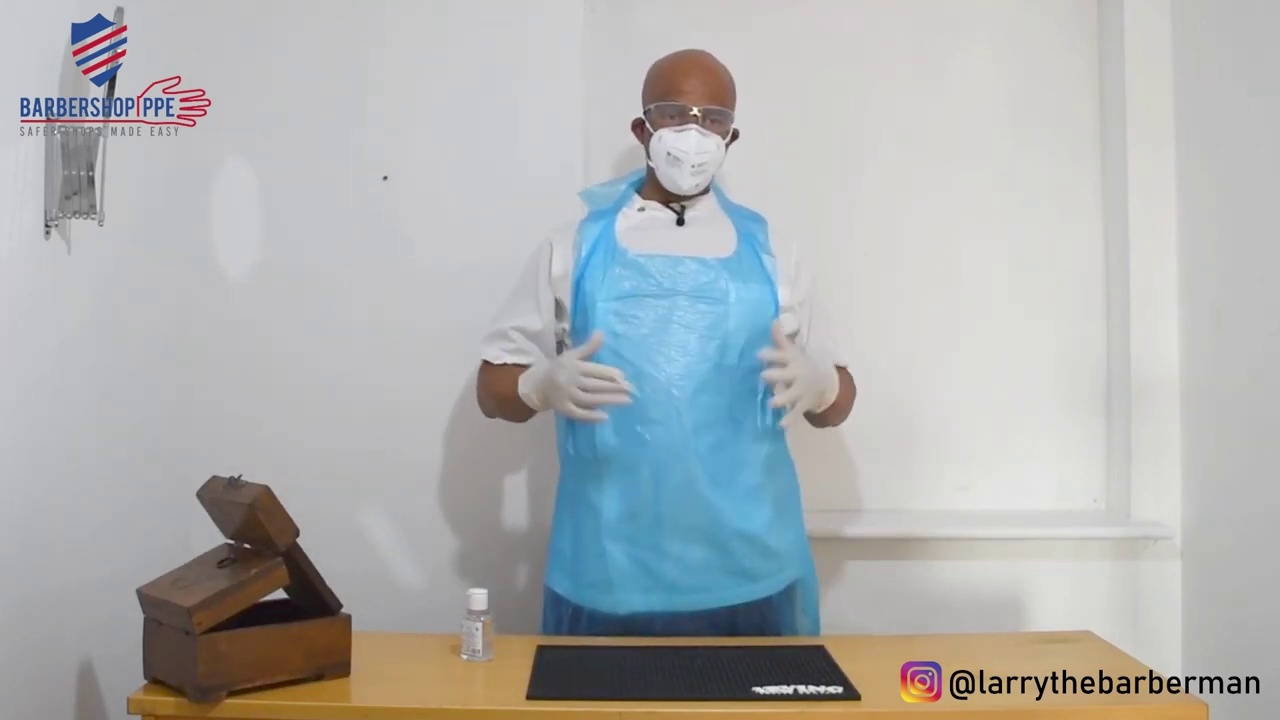Apron: (521, 165, 828, 649)
Glove: (698, 282, 847, 437), (505, 293, 657, 429)
Mask: (608, 112, 748, 204)
No_Hairnet: (630, 36, 744, 125)
